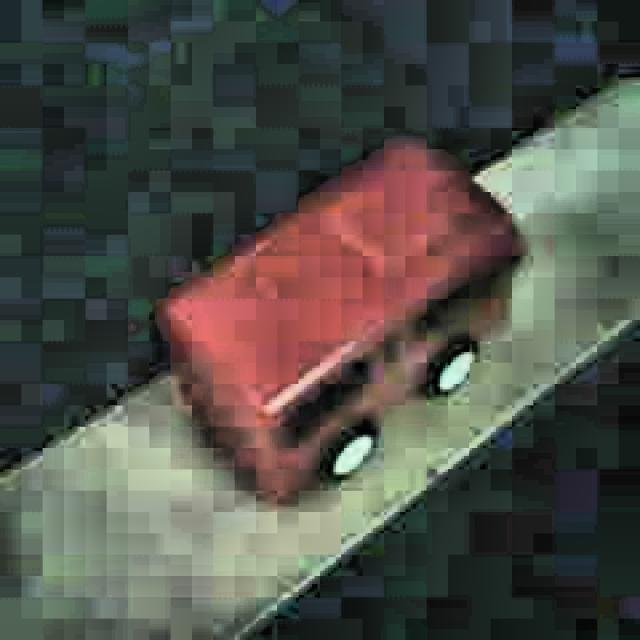bus: (163, 138, 529, 505)
